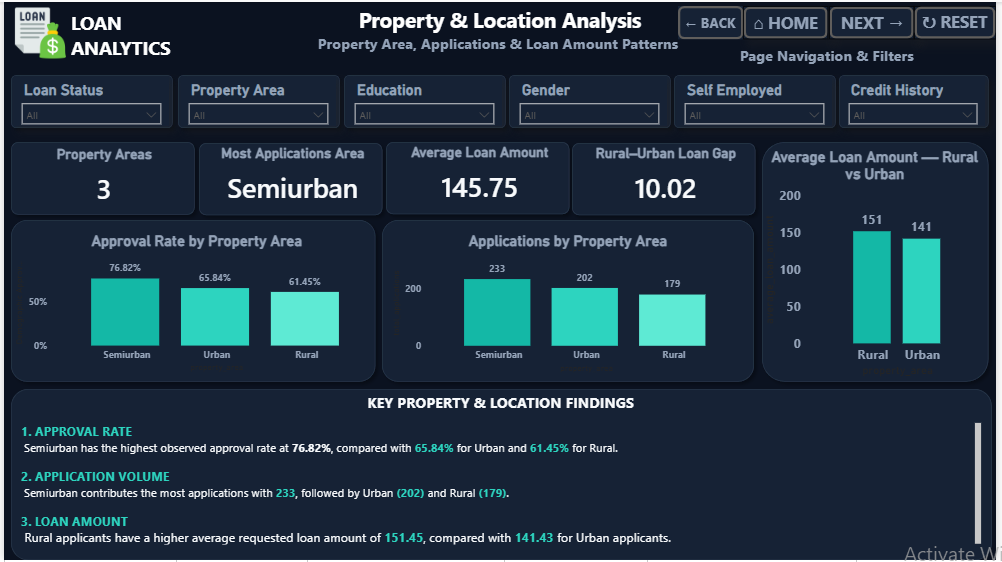

The dashboard page shown, as its layout file describes it:
{"tool":"powerbi","page":{"name":"Property & Location Analysis","canvas":[1280,720],"ordinal":3},"visuals":[{"type":"textbox","box":[0,0,1279.8,79.4],"z":0},{"type":"group","id":"g1","title":"Group 3","box":[0,85,226.8,86.5],"z":0,"group":"g8"},{"type":"shape","box":[969.4,171.5,310.4,327.4],"z":0,"group":"g16"},{"type":"shape","box":[478.5,272.1,498.1,226.6],"z":0,"group":"g17"},{"type":"shape","box":[0,272.2,488.3,226.6],"z":0,"group":"g15"},{"type":"group","id":"g2","title":"Group 6","box":[12.8,0,323.1,96.4],"z":1000},{"type":"group","id":"g3","title":"Group 3","box":[215.4,85,226.8,86.5],"z":1000,"group":"g8"},{"type":"clusteredColumnChart","title":"Average Loan Amount — Rural vs Urban","fields":{"Category":["loan_data.property_area"],"Y":["loan_data.average_loan_amount"]},"box":[974.4,188,299.1,300.1],"z":1000,"group":"g16"},{"type":"clusteredColumnChart","title":"Applications by Property Area","fields":{"Category":["loan_data.property_area"],"Y":["loan_data.total_applications"]},"box":[495,296,464.5,185.8],"z":1000,"group":"g17"},{"type":"clusteredColumnChart","title":"Approval Rate by Property Area","fields":{"Category":["loan_data.property_area"],"Y":["loan_data.Demographic Approval Rate"]},"box":[8.9,296.3,479.4,185.6],"z":1000,"group":"g15"},{"type":"group","id":"g4","title":"Group 3","box":[429.4,85,226.8,86.5],"z":2000,"group":"g8"},{"type":"group","id":"g5","title":"Group 7","box":[0,171.5,255.1,112],"z":2000},{"type":"group","id":"g6","title":"Group 3","box":[642,85,226.8,86.5],"z":3000,"group":"g8"},{"type":"group","id":"g7","title":"Group 7","box":[242.4,172.9,255.1,112],"z":3000},{"type":"group","id":"g8","title":"Group 4","box":[0,85,1279.8,86.5],"z":4000},{"type":"shape","box":[0,85,226.8,86.5],"z":4000,"group":"g1"},{"type":"shape","box":[215.4,85,226.8,86.5],"z":4000,"group":"g3"},{"type":"shape","box":[429.4,85,226.8,86.5],"z":4000,"group":"g4"},{"type":"shape","box":[642,85,226.8,86.5],"z":4000,"group":"g6"},{"type":"group","id":"g9","title":"Group 3","box":[856.1,85,226.8,86.5],"z":4000,"group":"g8"},{"type":"shape","box":[856.1,85,226.8,86.5],"z":4000,"group":"g9"},{"type":"shape","box":[1068.7,85,211.2,86.5],"z":4000,"group":"g10"},{"type":"shape","box":[0,171.5,255.1,112],"z":4000,"group":"g5"},{"type":"shape","box":[483.3,171.5,254.8,111.3],"z":4000,"group":"g11"},{"type":"shape","box":[242.4,172.9,254.8,111.3],"z":4000,"group":"g7"},{"type":"shape","box":[724.3,172.9,254.8,111.3],"z":4000,"group":"g12"},{"type":"group","id":"g10","title":"Group 3","box":[1068.7,85,211.2,86.5],"z":5000,"group":"g8"},{"type":"group","id":"g11","title":"Group 7","box":[483.3,171.5,255.1,112],"z":5000},{"type":"cardVisual","title":"Average Loan Amount","fields":{"Data":["loan_data.average_loan_amount"]},"box":[492.6,182.8,242.4,87.9],"z":5000,"group":"g11"},{"type":"cardVisual","title":"Most Applications Area","fields":{"Data":["loan_data.Most Applications Area"]},"box":[251.7,184.2,242.4,87.9],"z":5000,"group":"g7"},{"type":"cardVisual","title":"Rural–Urban Loan Gap","fields":{"Data":["loan_data.Urban Rural Loan Difference"]},"box":[733.6,184.2,242.4,87.9],"z":5000,"group":"g12"},{"type":"cardVisual","title":"Property Areas","fields":{"Data":["loan_data.Property Areas"]},"box":[17.5,185.9,223,86.5],"z":5000,"group":"g5"},{"type":"group","id":"g12","title":"Group 7","box":[724.3,172.9,255.1,112],"z":6000},{"type":"group","id":"g13","title":"Group 5","box":[478.5,272.1,498.1,226.6],"z":6000,"group":"g14"},{"type":"group","id":"g14","title":"Group 9","box":[0,272.1,976.5,226.8],"z":7000},{"type":"group","id":"g15","title":"Group 6","box":[0,272.2,488.3,226.6],"z":7000,"group":"g14"},{"type":"group","id":"g16","title":"Group 5","box":[969.4,171.5,310.4,327.4],"z":8000},{"type":"group","id":"g17","title":"Group 2","box":[478.5,272.1,498.1,226.6],"z":8001,"group":"g13"},{"type":"slicer","fields":{"Values":["loan_data.loan_status"]},"box":[12.8,96.7,199.8,63],"z":8003,"group":"g1"},{"type":"slicer","fields":{"Values":["loan_data.property_area"]},"box":[228.2,96.7,199.8,63],"z":8003,"group":"g3"},{"type":"slicer","fields":{"Values":["loan_data.education"]},"box":[442.2,96.7,199.8,63],"z":8003,"group":"g4"},{"type":"slicer","fields":{"Values":["loan_data.gender"]},"box":[654.8,96.7,199.8,63],"z":8003,"group":"g6"},{"type":"slicer","fields":{"Values":["loan_data.self_employed"]},"box":[868.9,96.7,199.8,63],"z":8003,"group":"g9"},{"type":"slicer","fields":{"Values":["loan_data.credit_history"]},"box":[1080.6,96.7,186.1,63],"z":8003,"group":"g10"},{"type":"textbox","box":[80.8,5.7,255.1,90.7],"z":9000,"group":"g2"},{"type":"shape","box":[8.5,498.9,1265.7,221.1],"z":9000},{"type":"group","id":"g18","title":"Group 1","box":[17,498.9,1248.7,205.5],"z":10000},{"type":"textbox","box":[17,498.9,1248.7,38.3],"z":10000,"group":"g18"},{"type":"actionButton","box":[869.5,5.7,84.4,42.9],"z":11000},{"type":"textbox","box":[17,537.2,1248.7,167.2],"z":11000,"group":"g18"},{"type":"actionButton","box":[953.9,5.7,110.1,42.9],"z":12000},{"type":"actionButton","box":[1064,5.7,110.1,42.9],"z":13000},{"type":"actionButton","box":[1174.2,5.7,105.8,42.9],"z":14000},{"type":"textbox","box":[844.3,51.4,435.7,44.3],"z":15000},{"type":"image","box":[12.8,0,68,79.4],"z":17000,"group":"g2"}]}

Visuals, with their boxes in screenshot pixels (x1, y1, x2, y2), scaled from the page's 1280x720 canvas onto the 1002x562 screenshot:
textbox: (0, 0, 1001, 62)
"Group 3" group: (0, 66, 178, 134)
shape: (759, 134, 1001, 389)
shape: (375, 212, 764, 389)
shape: (0, 212, 382, 389)
"Group 6" group: (10, 0, 263, 75)
"Group 3" group: (169, 66, 346, 134)
"Average Loan Amount — Rural vs Urban" clusteredColumnChart: (763, 147, 997, 381)
"Applications by Property Area" clusteredColumnChart: (387, 231, 751, 376)
"Approval Rate by Property Area" clusteredColumnChart: (7, 231, 382, 376)
"Group 3" group: (336, 66, 514, 134)
"Group 7" group: (0, 134, 200, 221)
"Group 3" group: (503, 66, 680, 134)
"Group 7" group: (190, 135, 389, 222)
"Group 4" group: (0, 66, 1001, 134)
shape: (0, 66, 178, 134)
shape: (169, 66, 346, 134)
shape: (336, 66, 514, 134)
shape: (503, 66, 680, 134)
"Group 3" group: (670, 66, 848, 134)
shape: (670, 66, 848, 134)
shape: (837, 66, 1001, 134)
shape: (0, 134, 200, 221)
shape: (378, 134, 578, 221)
shape: (190, 135, 389, 222)
shape: (567, 135, 766, 222)
"Group 3" group: (837, 66, 1001, 134)
"Group 7" group: (378, 134, 578, 221)
"Average Loan Amount" cardVisual: (386, 143, 575, 211)
"Most Applications Area" cardVisual: (197, 144, 387, 212)
"Rural–Urban Loan Gap" cardVisual: (574, 144, 764, 212)
"Property Areas" cardVisual: (14, 145, 188, 213)
"Group 7" group: (567, 135, 767, 222)
"Group 5" group: (375, 212, 764, 389)
"Group 9" group: (0, 212, 764, 389)
"Group 6" group: (0, 212, 382, 389)
"Group 5" group: (759, 134, 1001, 389)
"Group 2" group: (375, 212, 764, 389)
slicer - loan_data.loan_status: (10, 75, 166, 125)
slicer - loan_data.property_area: (179, 75, 335, 125)
slicer - loan_data.education: (346, 75, 503, 125)
slicer - loan_data.gender: (513, 75, 669, 125)
slicer - loan_data.self_employed: (680, 75, 837, 125)
slicer - loan_data.credit_history: (846, 75, 992, 125)
textbox: (63, 4, 263, 75)
shape: (7, 389, 997, 561)
"Group 1" group: (13, 389, 991, 550)
textbox: (13, 389, 991, 419)
actionButton: (681, 4, 747, 38)
textbox: (13, 419, 991, 550)
actionButton: (747, 4, 833, 38)
actionButton: (833, 4, 919, 38)
actionButton: (919, 4, 1001, 38)
textbox: (661, 40, 1001, 75)
image: (10, 0, 63, 62)
